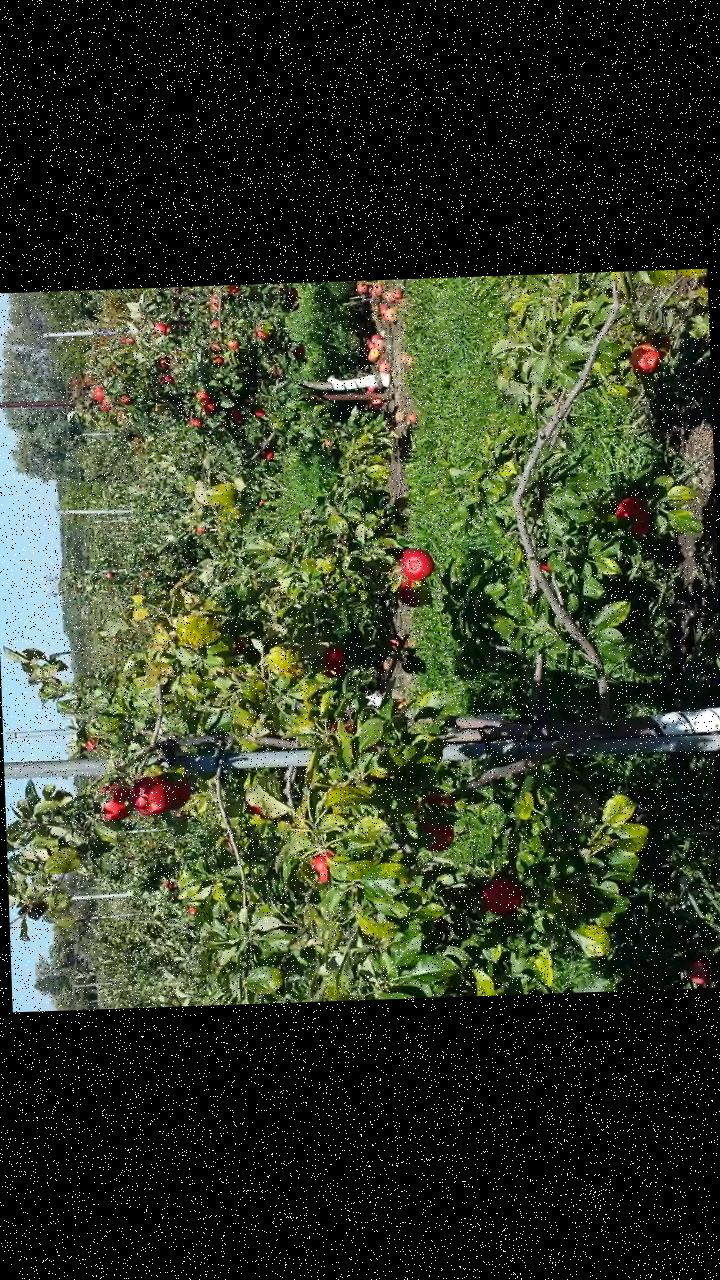Apple: (480, 876, 524, 916), (129, 774, 168, 816), (614, 496, 652, 537), (93, 784, 132, 822), (158, 770, 190, 812), (419, 819, 454, 856), (628, 340, 663, 376), (398, 548, 434, 580), (306, 848, 335, 884), (320, 646, 344, 678), (396, 579, 420, 609), (416, 790, 450, 809), (244, 802, 262, 819)
